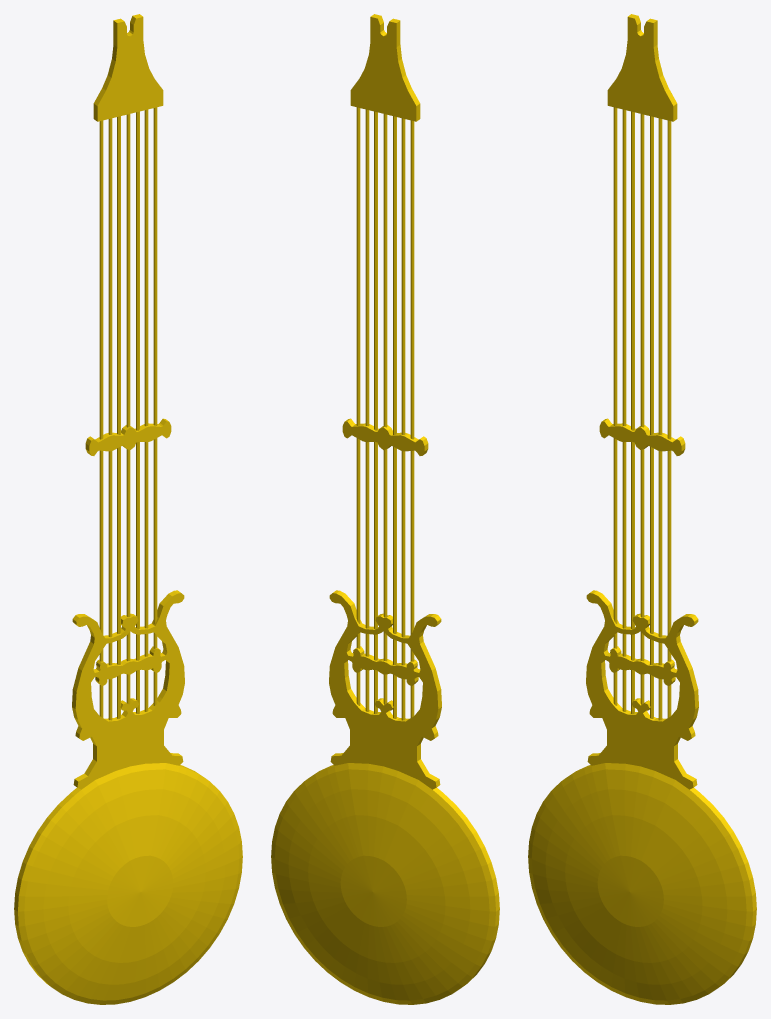
File: pendel.obj
3 views of the same model, side by side, from view 1: azimuth 30°, elevation 25°; view 2: azimuth 150°, elevation 25°; view 3: azimuth 330°, elevation 25° (orthographic).
Parts seen in each view (by area): view 1: Plane.001; view 2: Plane.001; view 3: Plane.001.
Part boxes in pixels (bbox=[...]): Plane.001: bbox=[14, 14, 242, 1004]; Plane.001: bbox=[271, 14, 499, 1004]; Plane.001: bbox=[528, 14, 756, 1004].
Bounding box in the file's own units: 2.16 × 8.99 × 0.4153.
Materials: 1 (1 with a texture image).
